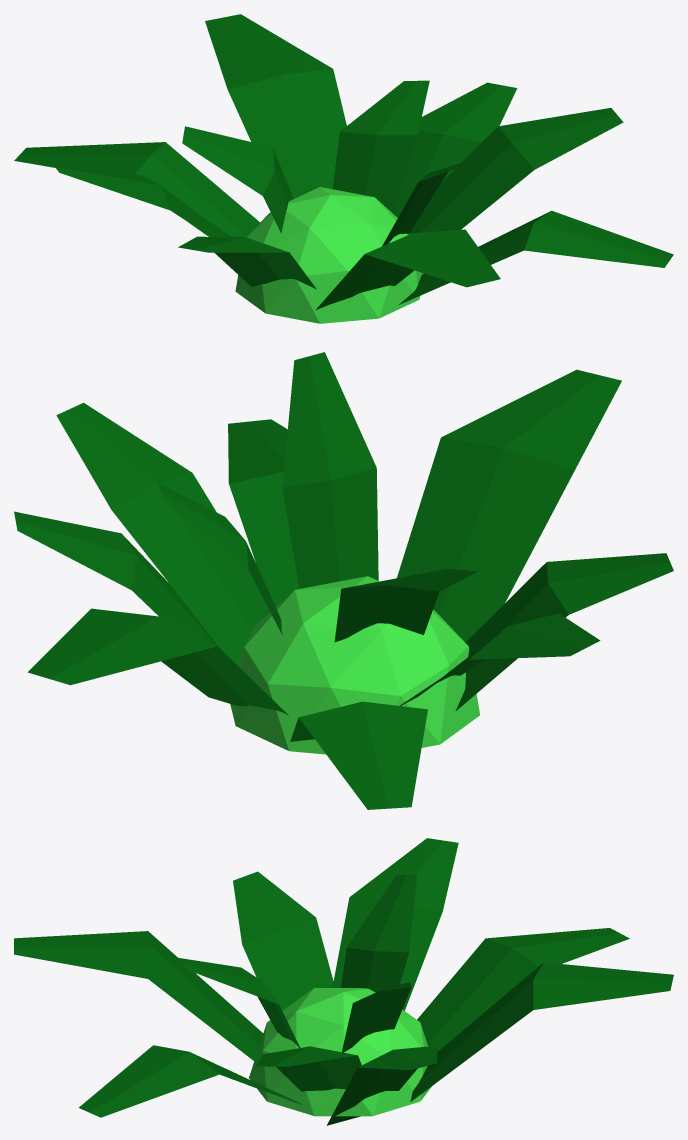
The model's file is Plant.fbx.
3 renders of one model, top to bottom at view 1: azimuth 30°, elevation 25°; view 2: azimuth 150°, elevation 25°; view 3: azimuth 270°, elevation 25°, orthographic. The views are drawn at different scales.
Visible parts, largest first — view 1: Plant; view 2: Plant; view 3: Plant.
Part boxes in pixels (left/top/right/bottom): Plant: left=14, top=14, right=673, bottom=323; Plant: left=14, top=352, right=673, bottom=809; Plant: left=14, top=838, right=673, bottom=1125.
Bounding box in the file's own units: 3.2 × 1.24 × 3.9.
